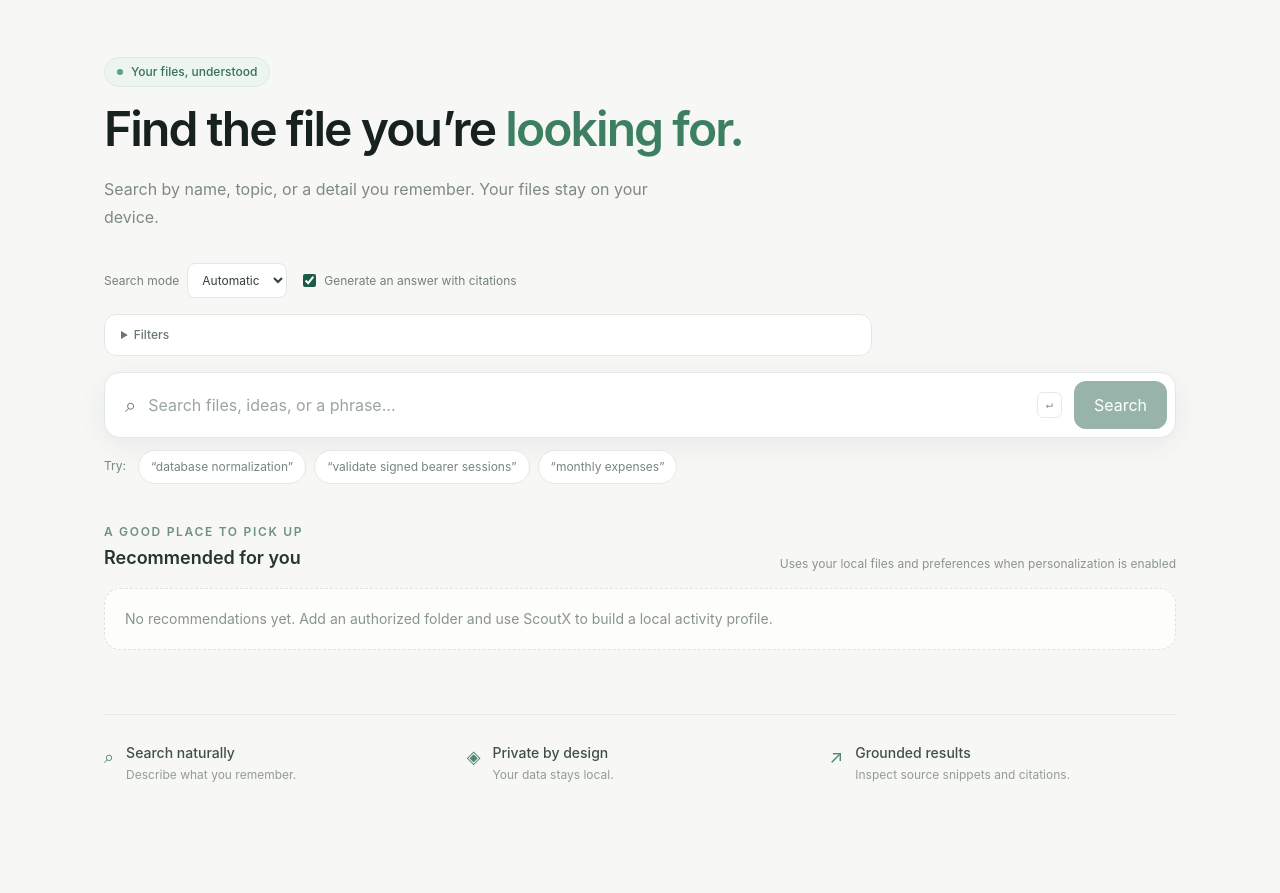
Scenario: SearchPage › opens a source detail when an answer citation is selected
This screenshot has width=1280, height=893.
Step 1. Type "where is the total?" into the field named "Search your files" → (586, 405), box [148,381,1025,429]
Then press Enter
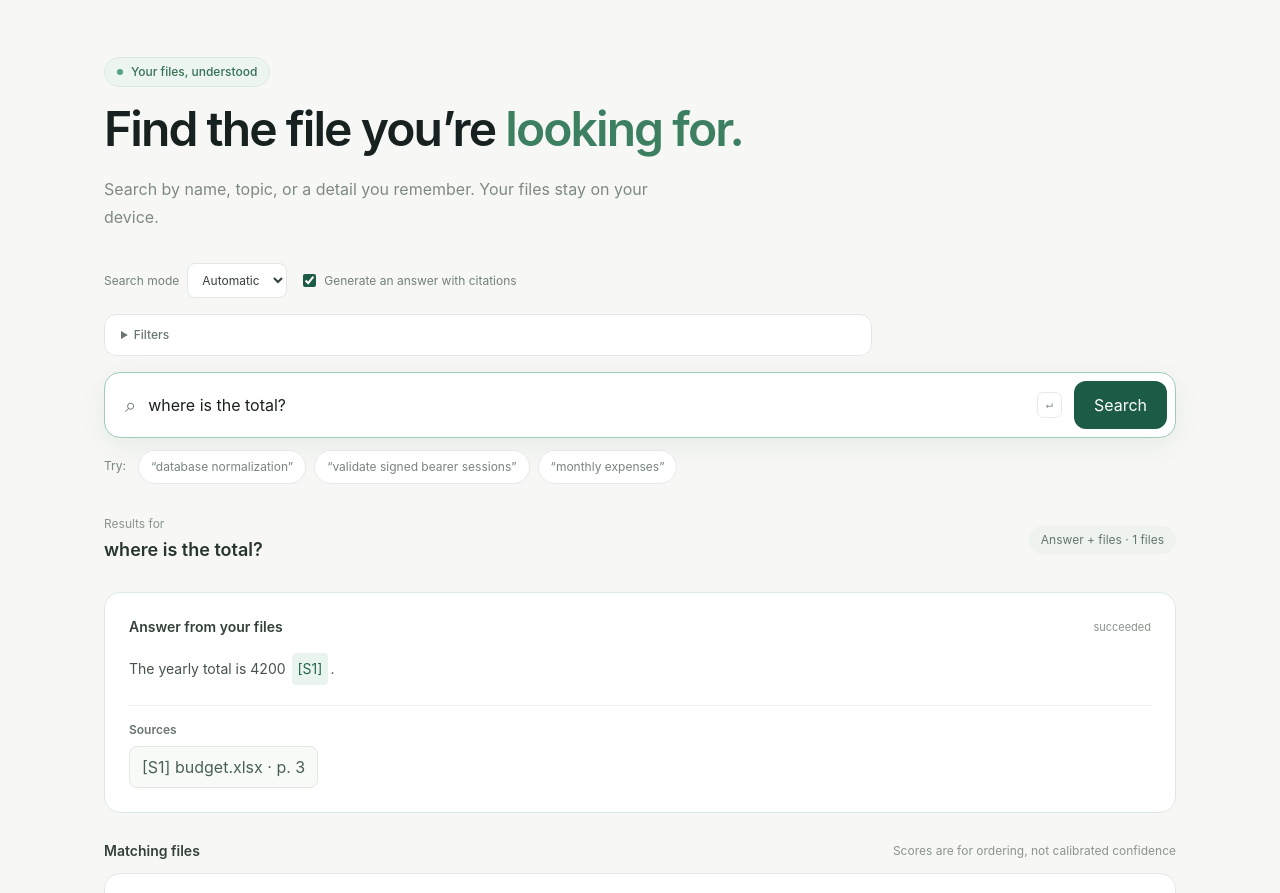
Step 2. Click the button named "Open citation [S1]" → (310, 669), box [292,653,328,685]
(page scrolled)
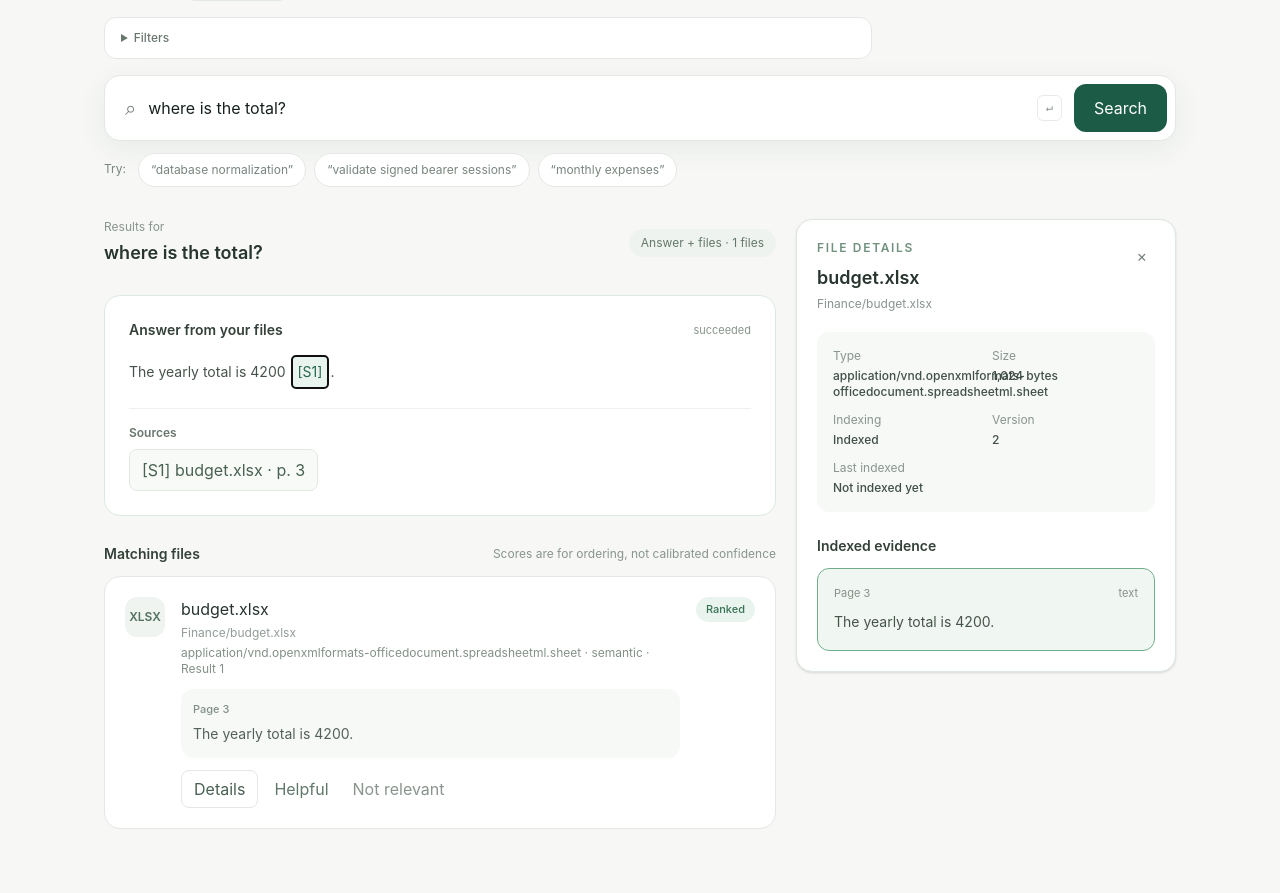
Now the text "The yearly total is 4200." below "text" is shown, box [834,612,994,630]
